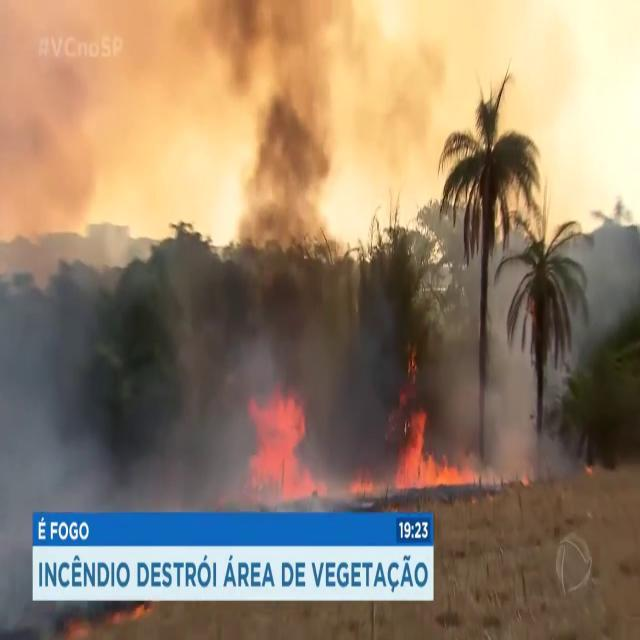Fire: (386, 410, 528, 497), (237, 382, 319, 507)
Smoke: (1, 0, 515, 302), (5, 288, 246, 524)
